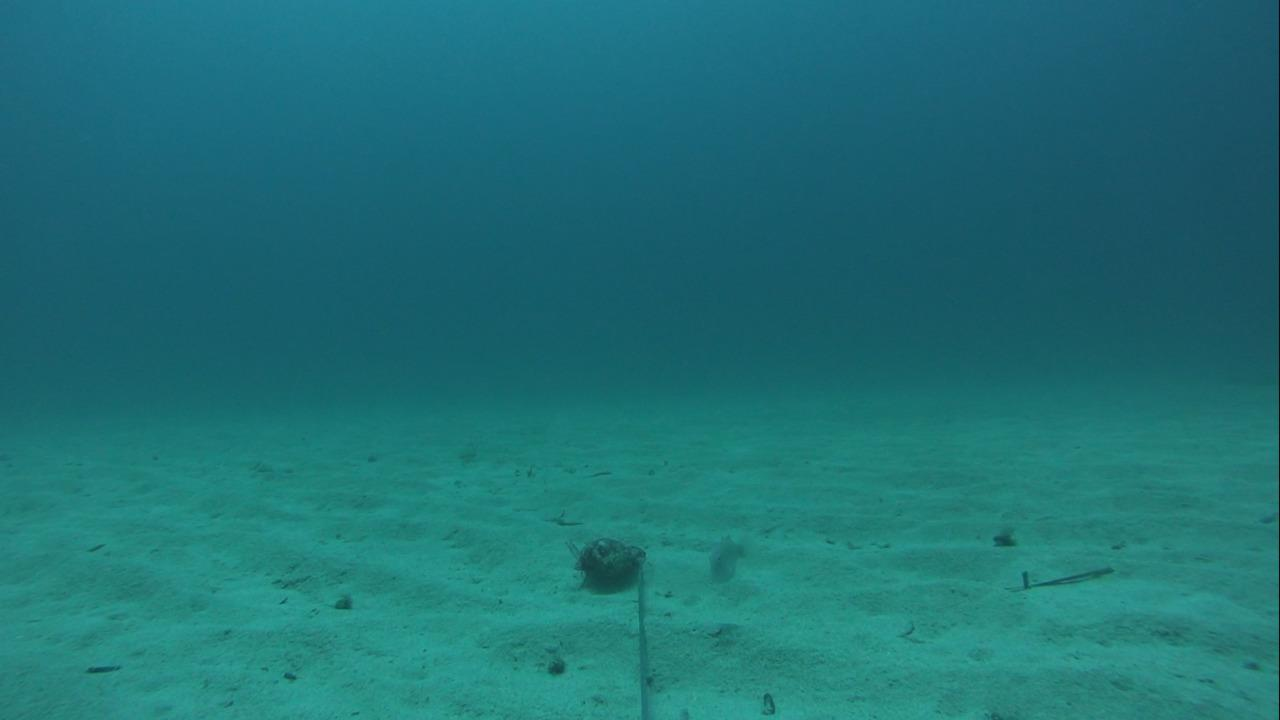raor: (698, 529, 756, 588)
